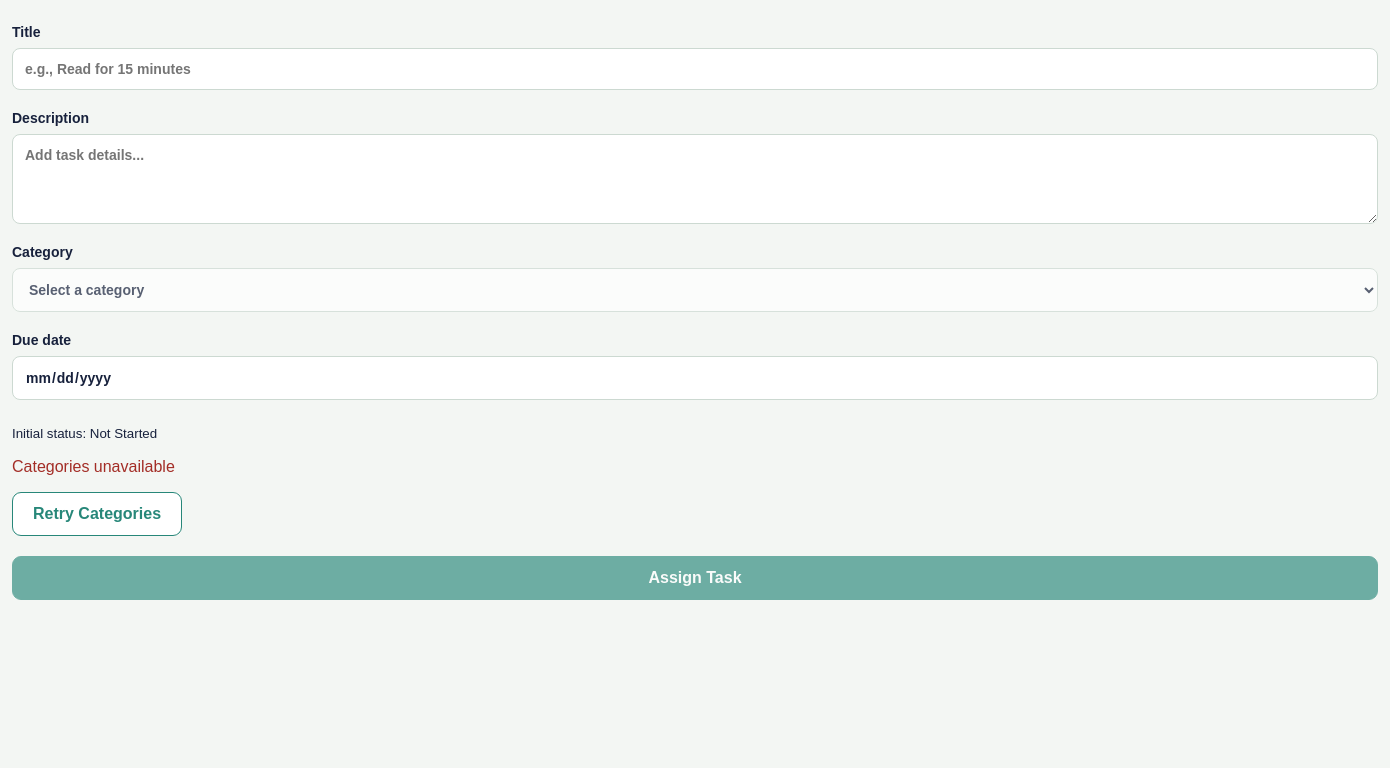
Test: disables the form during category loading and retries a failed load
Check: the button "Assign Task" is disabled, box [12,556,1378,600]
Check: the message reads "Categories unavailable", box [12,458,175,475]
What coordinates should you click on to do the following:
click the button "Retry Categories"
I would click on:
 (97, 514)
Its box is [12,492,182,536].
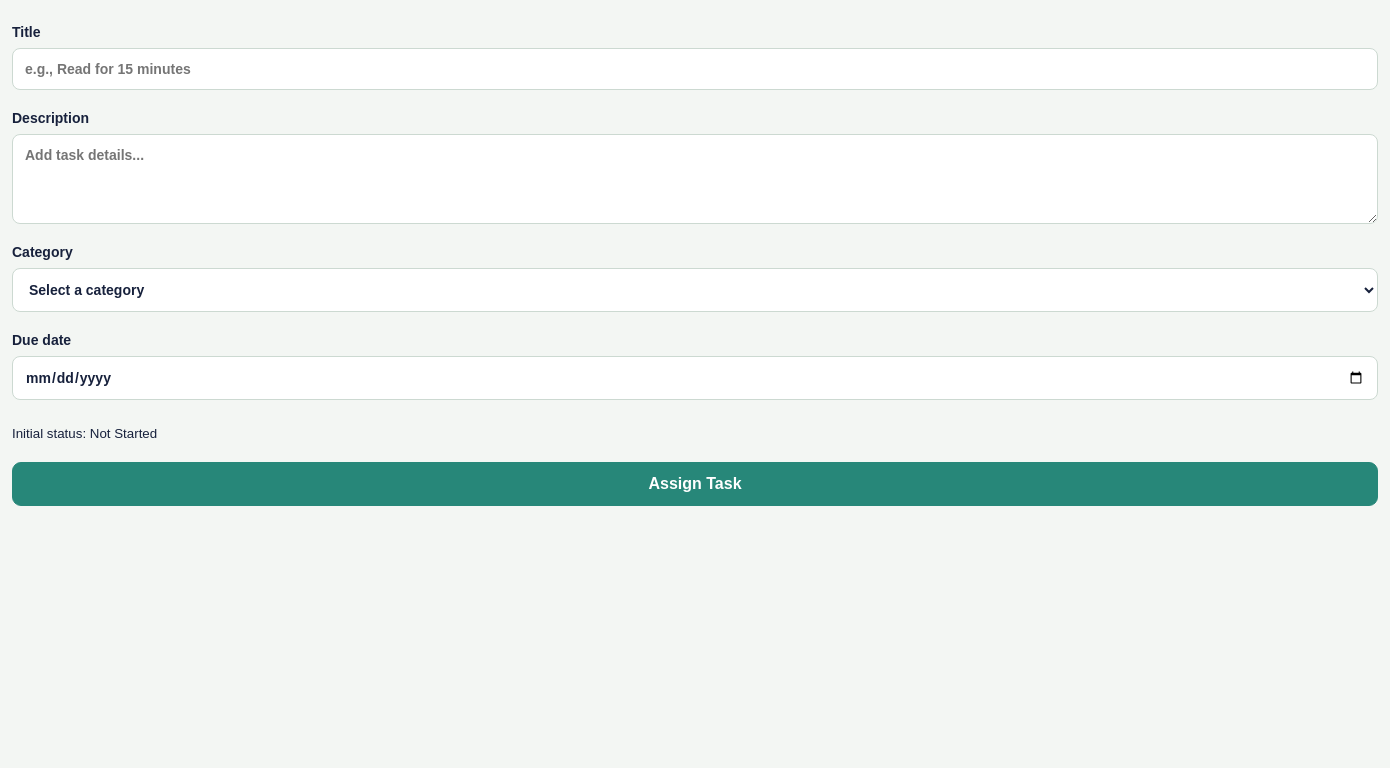
Check: the button "Assign Task" is enabled, box [12,462,1378,506]
